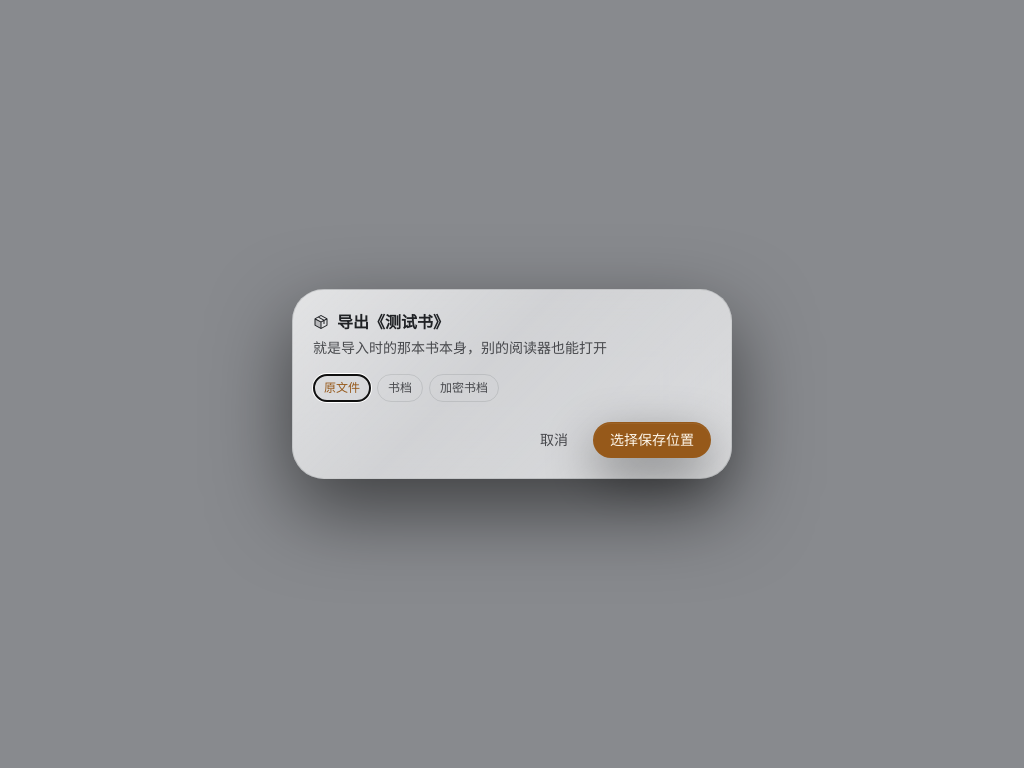
Test: the export dialog › says the right thing about each shape, since only one of them travels
The image size is (1024, 768).
Expected: the text "就是导入时的那本书本身，别的阅读器也能打开" is shown, x1=313 y1=339 x2=607 y2=356
What coordinates should you click on to do the following:
click the button "书档"
I would click on:
 (400, 388)
Its box is x1=377 y1=374 x2=423 y2=402.
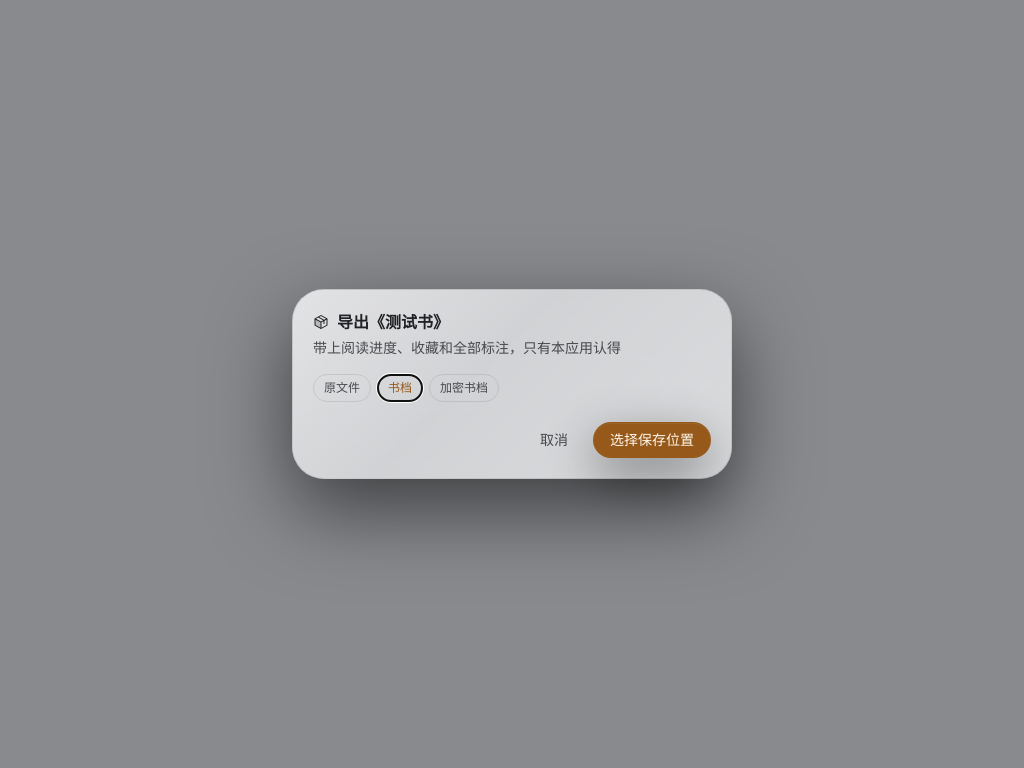
Expected: the text "带上阅读进度、收藏和全部标注，只有本应用认得" is shown, x1=313 y1=339 x2=621 y2=356
